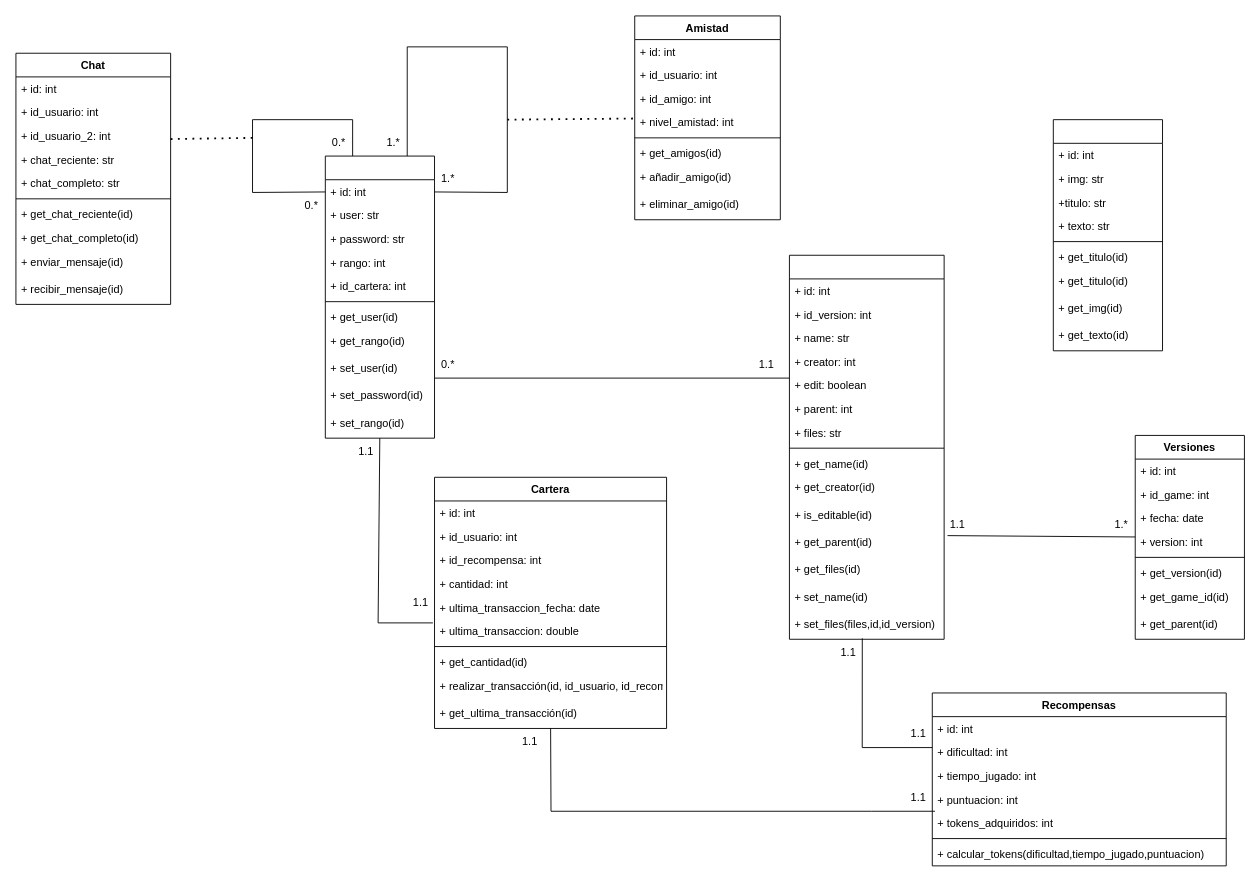
This 1260x885 diagram has some shape labels left out. The shapes that lost their labels are listed below. From the top down, each one's box as (x1, y1, x2, y2) in pixels, then its label:
(1052, 119, 1163, 351): Noticias
(324, 155, 435, 438): Usuario
(789, 254, 944, 639): Game
